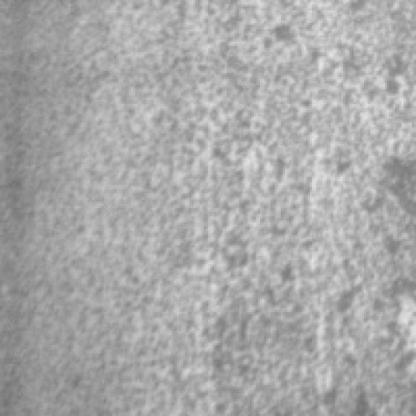pitted_surface: (150, 0, 416, 389)
